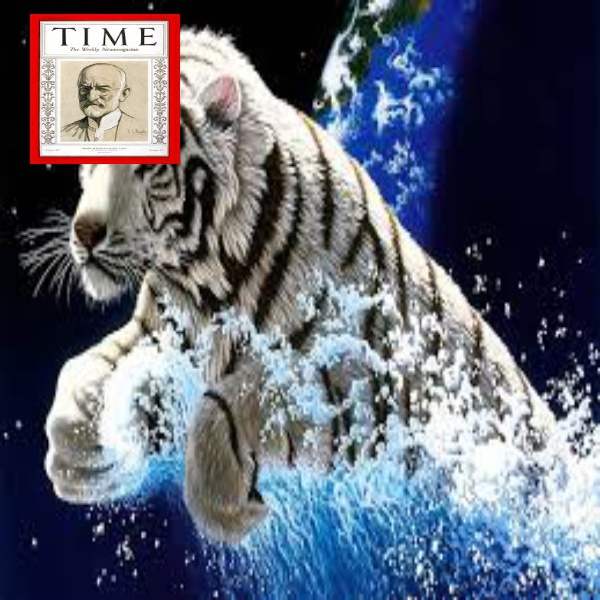time_cover: (30, 9, 180, 170)
